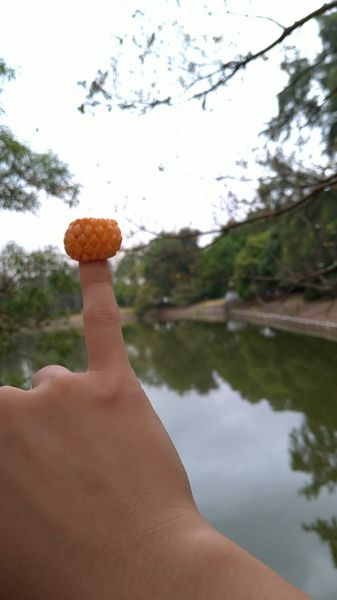eggs: (62, 216, 123, 263)
